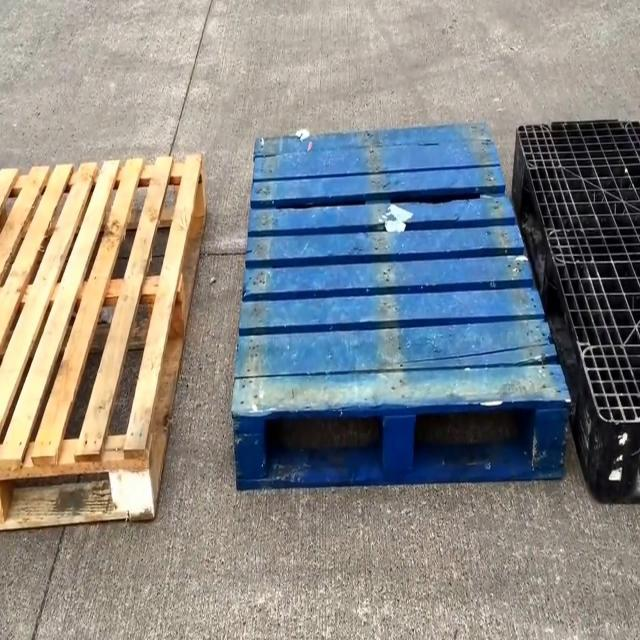Palette: (229, 117, 572, 486), (0, 151, 208, 532), (509, 114, 640, 516)
